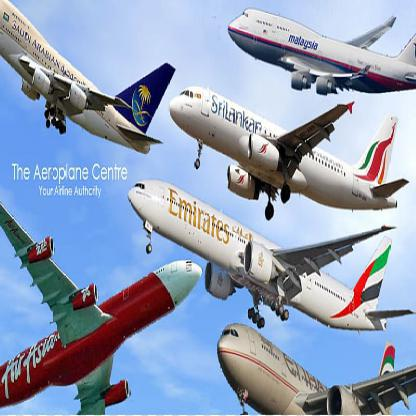CIV_Plane: (122, 172, 412, 330), (0, 198, 198, 408), (170, 79, 406, 214), (1, 0, 176, 162), (216, 302, 416, 415), (221, 2, 414, 103)
